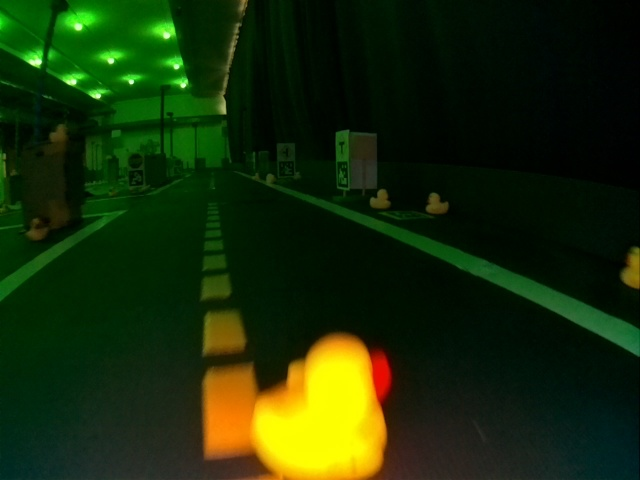Duckie: (254, 339, 390, 477), (622, 249, 639, 288), (426, 193, 447, 214), (26, 218, 47, 239), (370, 189, 390, 209), (49, 125, 67, 140)
Intersection sign: (336, 133, 348, 158), (278, 144, 294, 159)
QR code: (380, 212, 431, 220), (336, 161, 348, 189), (278, 161, 295, 178), (129, 170, 143, 186)
Stop sign: (128, 154, 143, 169)
